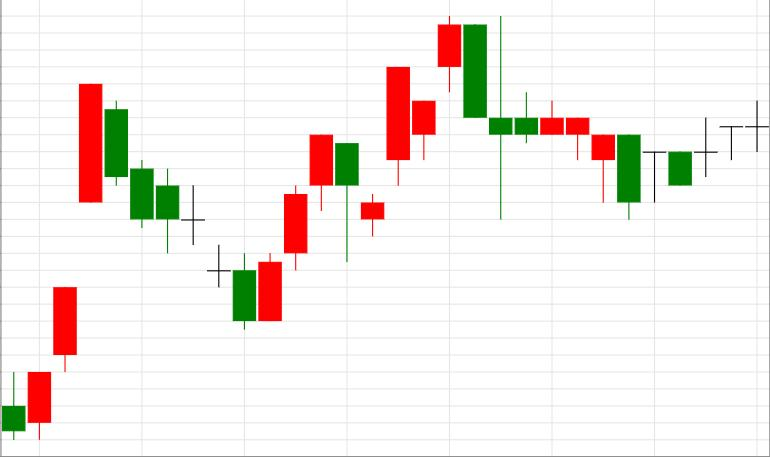three_white_soldiers_rise: (105, 99, 333, 329)
